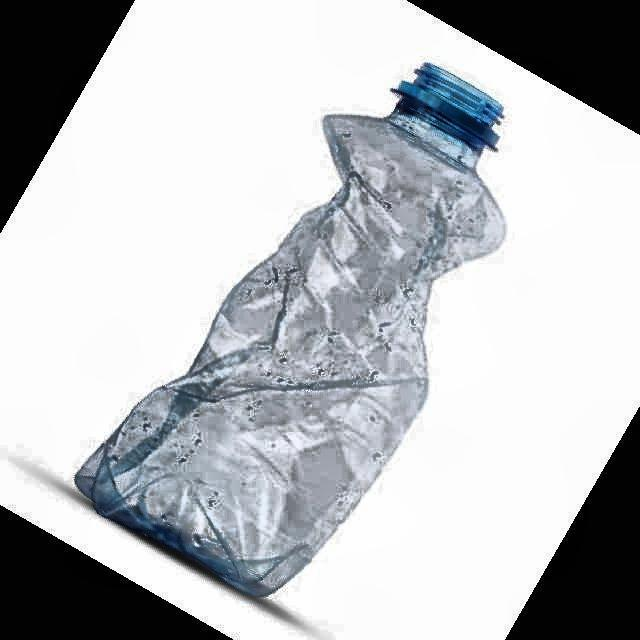plastic: (76, 64, 504, 596)
